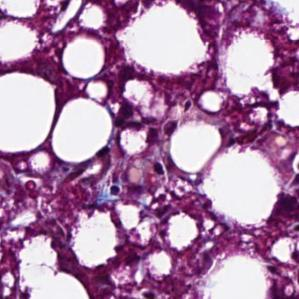inflammation: (142, 185, 183, 218), (144, 116, 180, 147)
